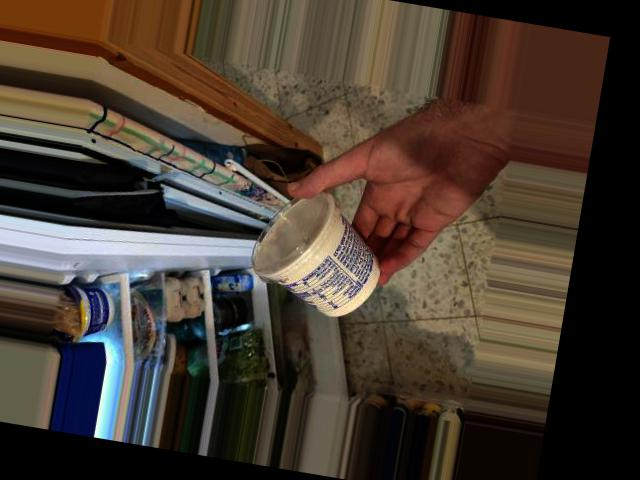cotage: (244, 190, 377, 317)
